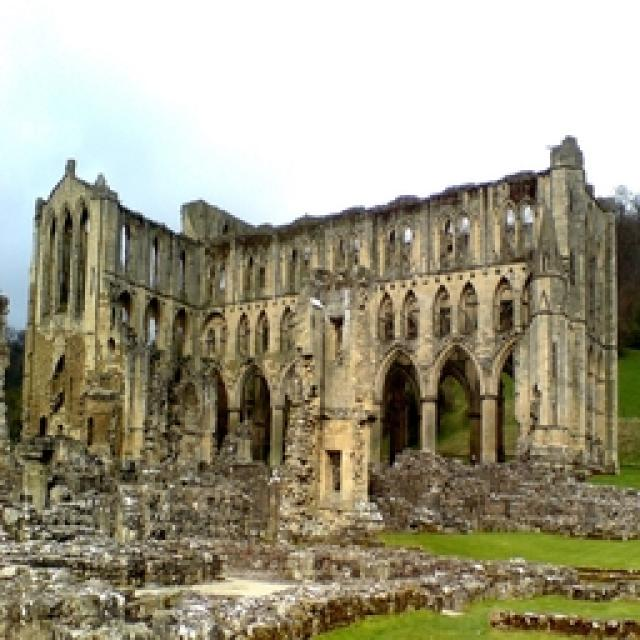Abbey: (22, 154, 619, 503)
